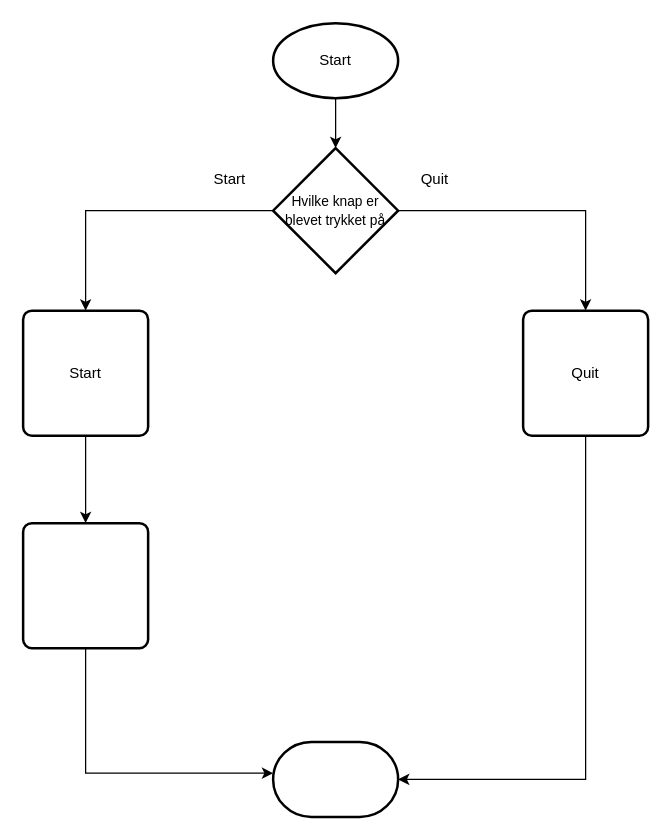
This 670x839 diagram has some shape labels left out. Here are the shapes that lost their labels. From the top down, the centre of each, then its label:
the point at 85,585: Går videre til run function
the point at 335,779: Slut
